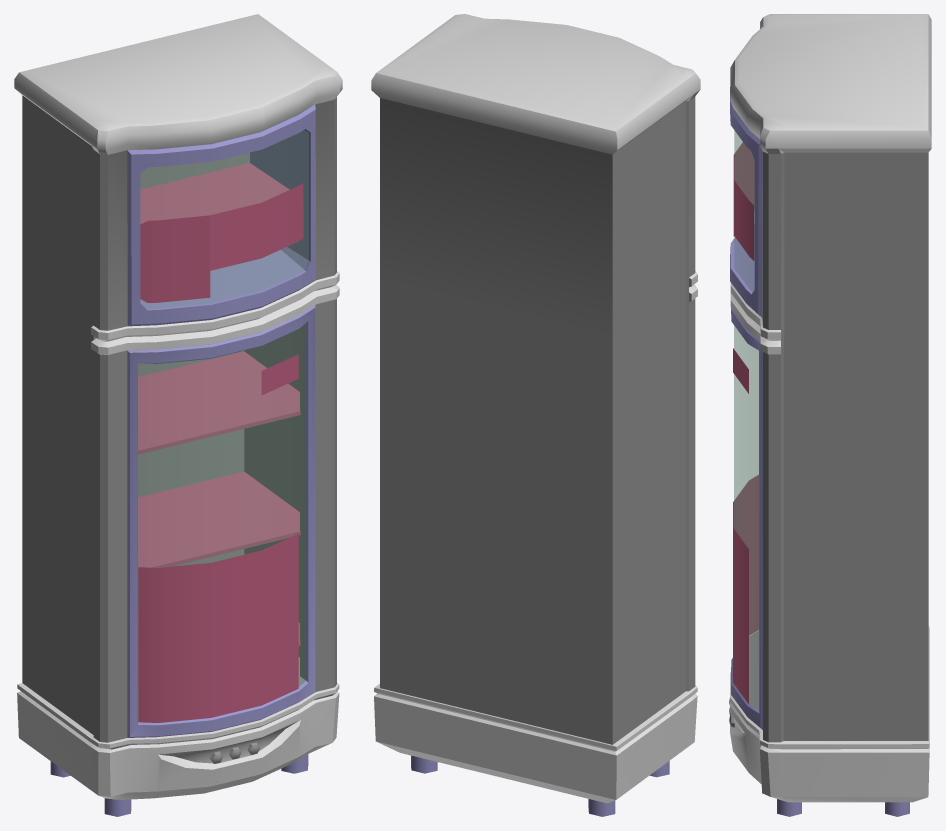
File: XDG001.FBX
3 views of the same model, side by side, from view 1: azimuth 30°, elevation 25°; view 2: azimuth 150°, elevation 25°; view 3: azimuth 270°, elevation 25° (orthographic).
Visible parts, largest first — view 1: XDG001; view 2: XDG001; view 3: XDG001.
Part boxes in pixels (x1,y1,x2,y2): XDG001: [14, 14, 342, 816]; XDG001: [371, 14, 700, 816]; XDG001: [729, 14, 931, 816].
Bounding box in the file's own units: 889 × 2413 × 635.
